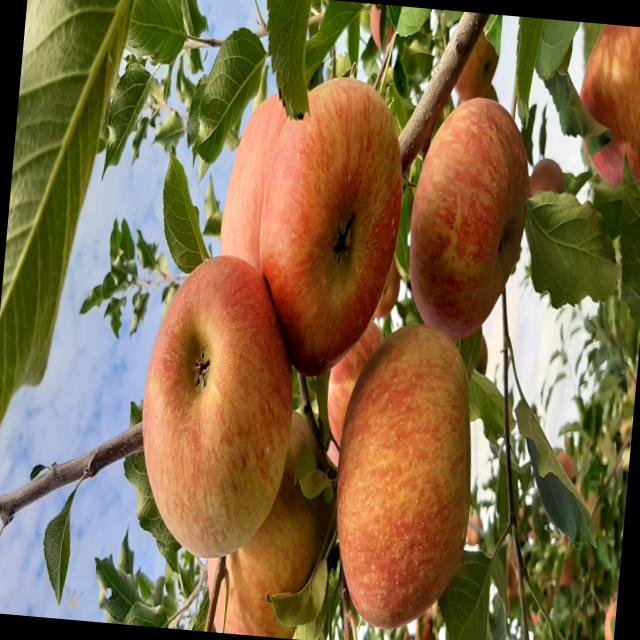fresh: (127, 238, 311, 568), (252, 57, 416, 387), (324, 315, 489, 640), (403, 89, 544, 347)
